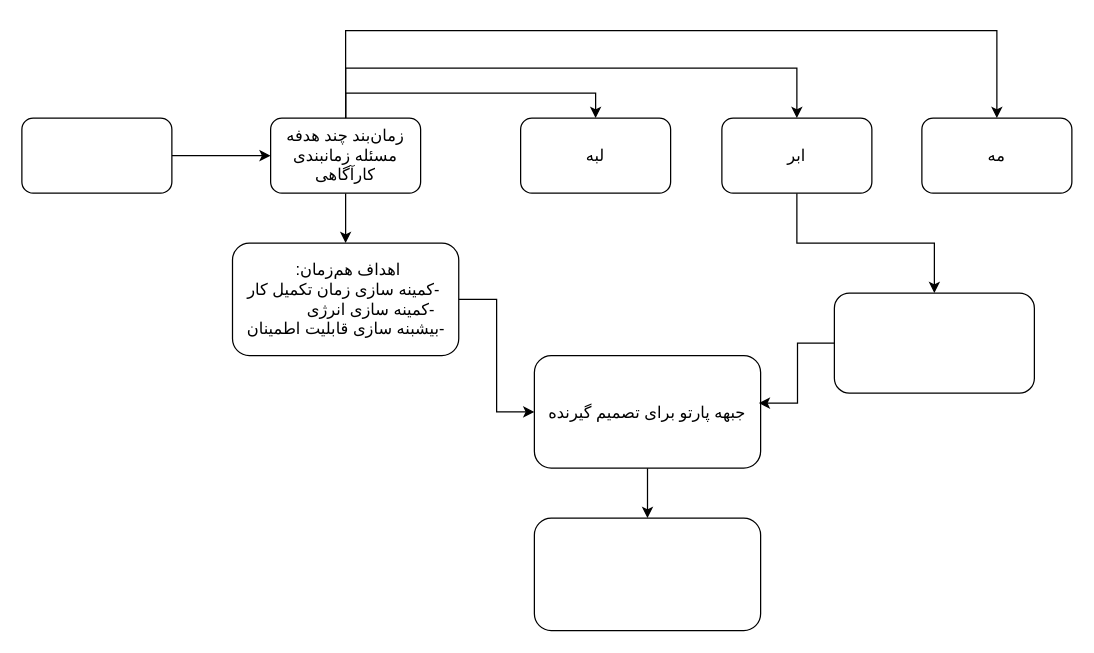
Some shapes in this 1094 by 653 pixel diagram are drawn without their labels. The shapes that lost their labels are listed below. From the top down, each one's centre as x and y in pixels, then its label:
At [96,155]: "کارهای تولیدی \(سفارش ها و عملیات\)".
At [933,342]: "اجرای عملیات روی زیرساخت ناهمگن لبه-مه-ابر".
At [647,574]: ":خروجی عملیاتی کاهش هزینه پاسخگویی بهتر اجرای پایدارتر".
